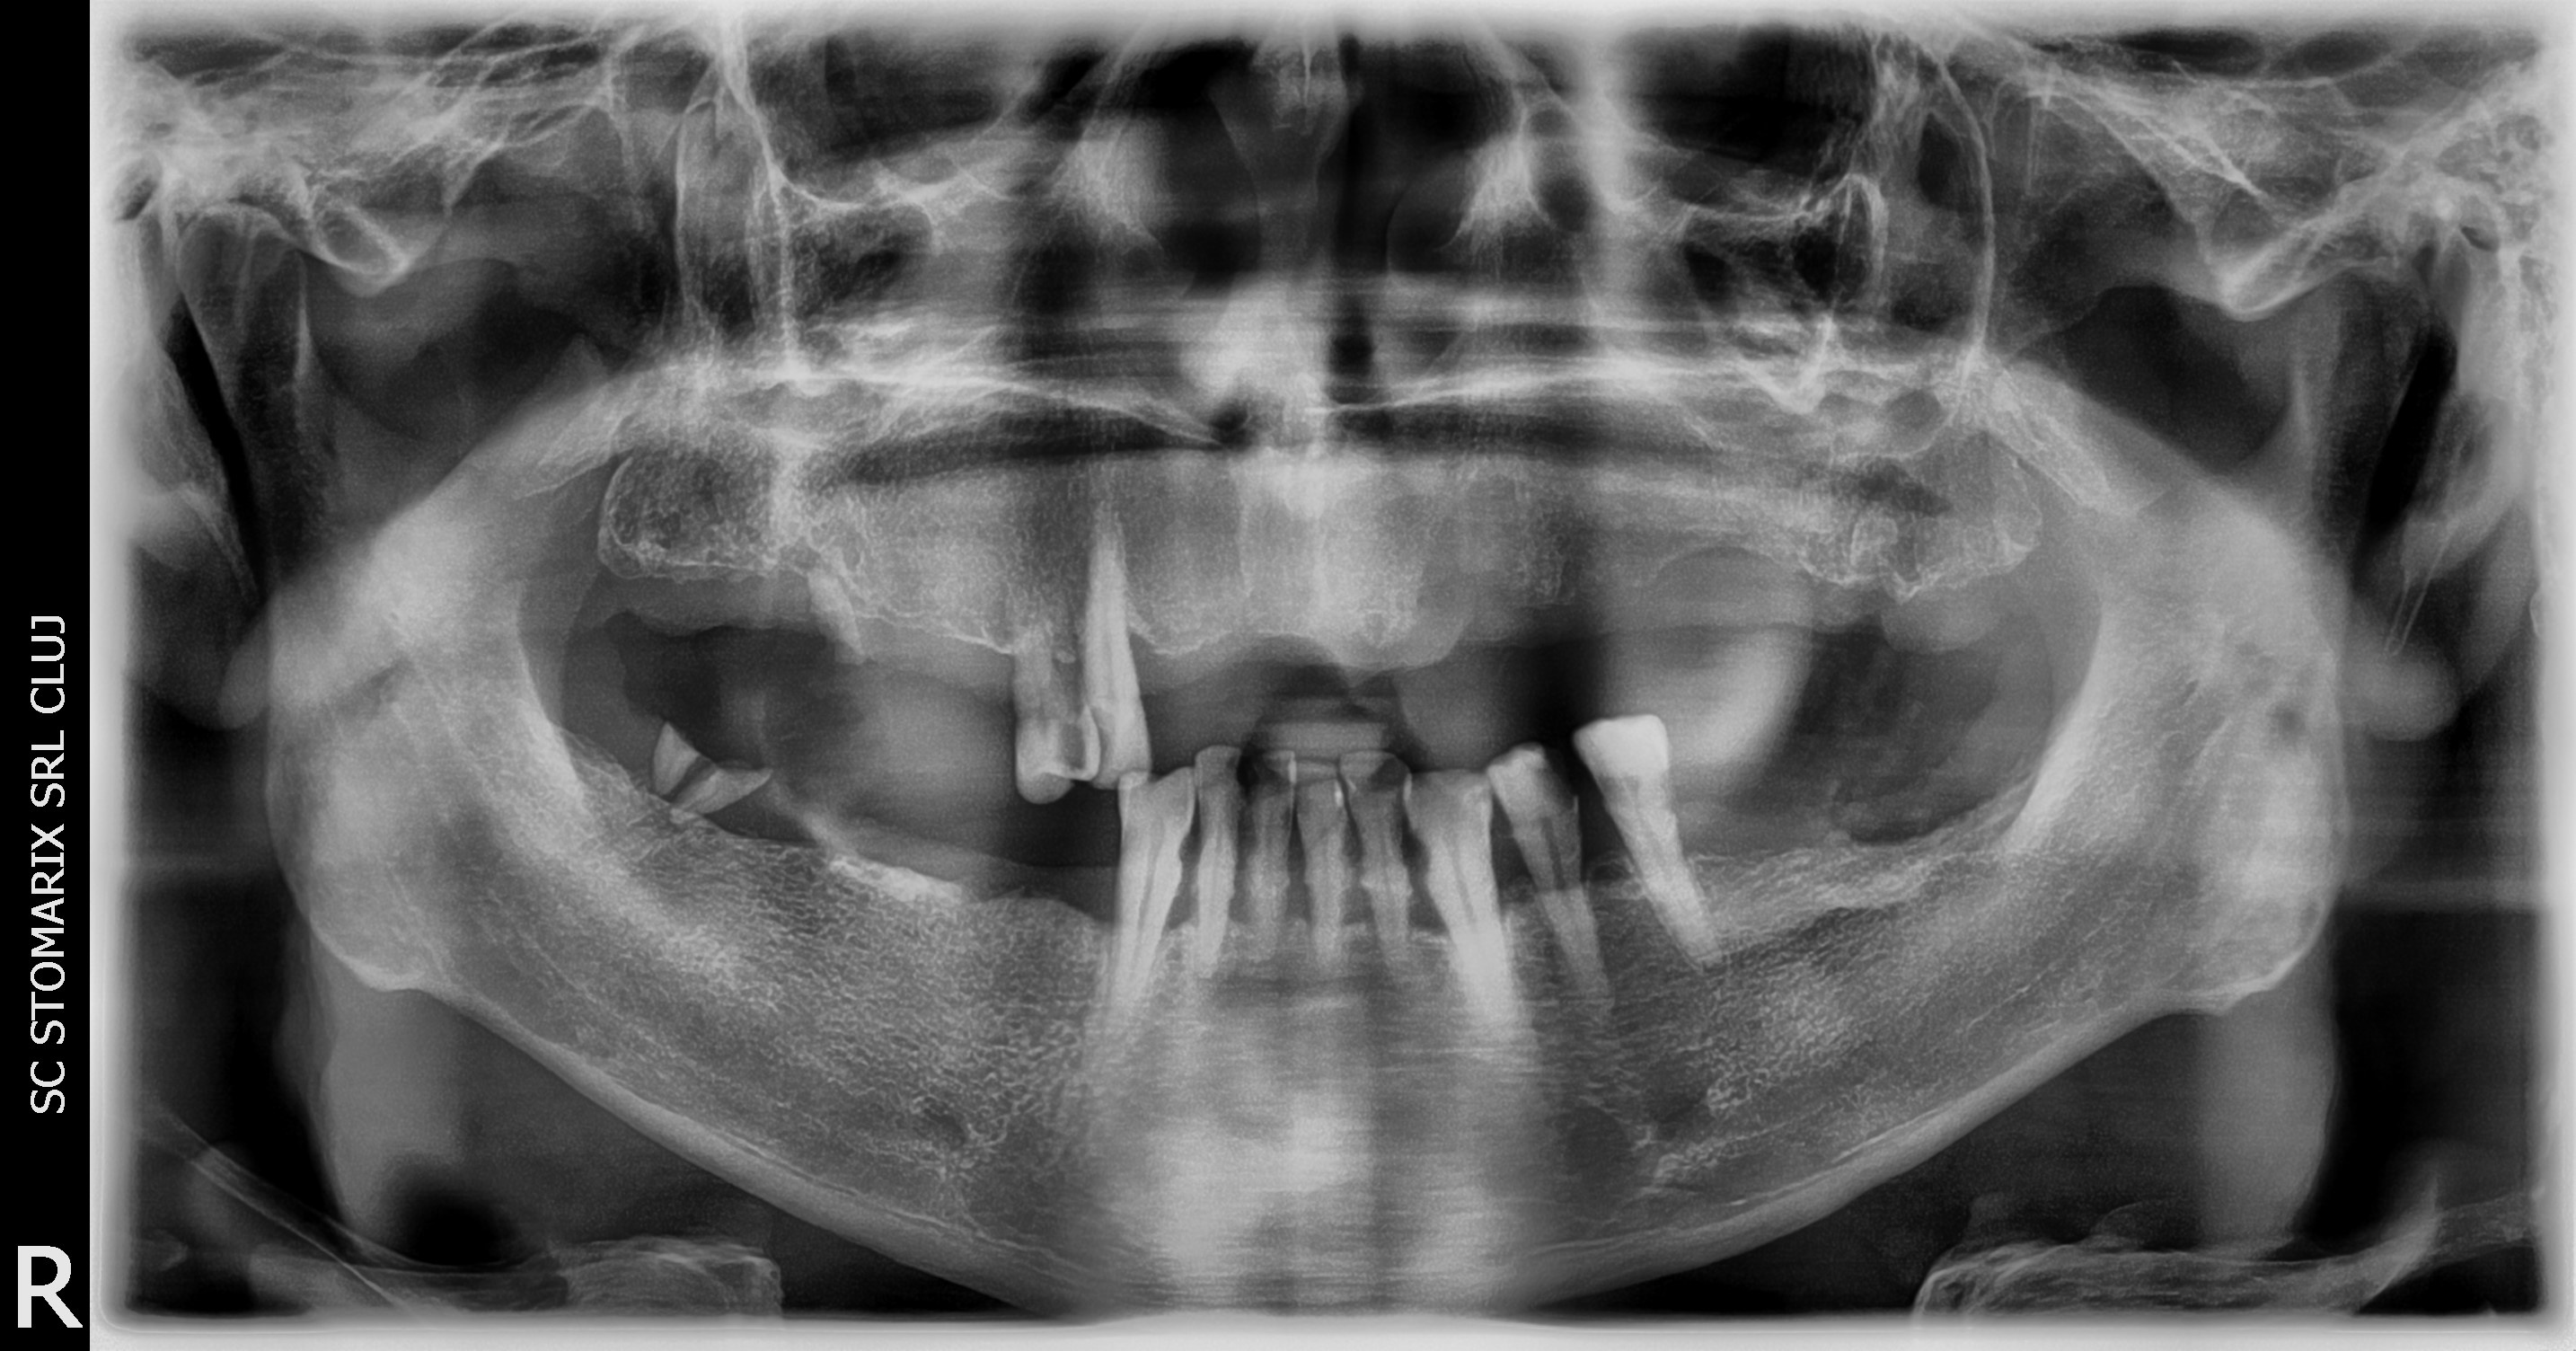BON: (738, 370, 2387, 1233), (647, 359, 2118, 1317), (675, 388, 2232, 1291), (641, 373, 2017, 1310), (613, 371, 1934, 1307), (578, 363, 1845, 1298), (538, 378, 1750, 1324), (521, 252, 1702, 942), (482, 278, 1583, 976)
CAR: (656, 368, 2111, 1262), (714, 325, 2298, 1140), (649, 344, 2077, 1150), (561, 378, 1765, 1252), (581, 344, 1838, 1148), (474, 298, 1598, 1089)
FUR: (257, 320, 1048, 1176), (327, 172, 1206, 860), (279, 298, 990, 1111)
